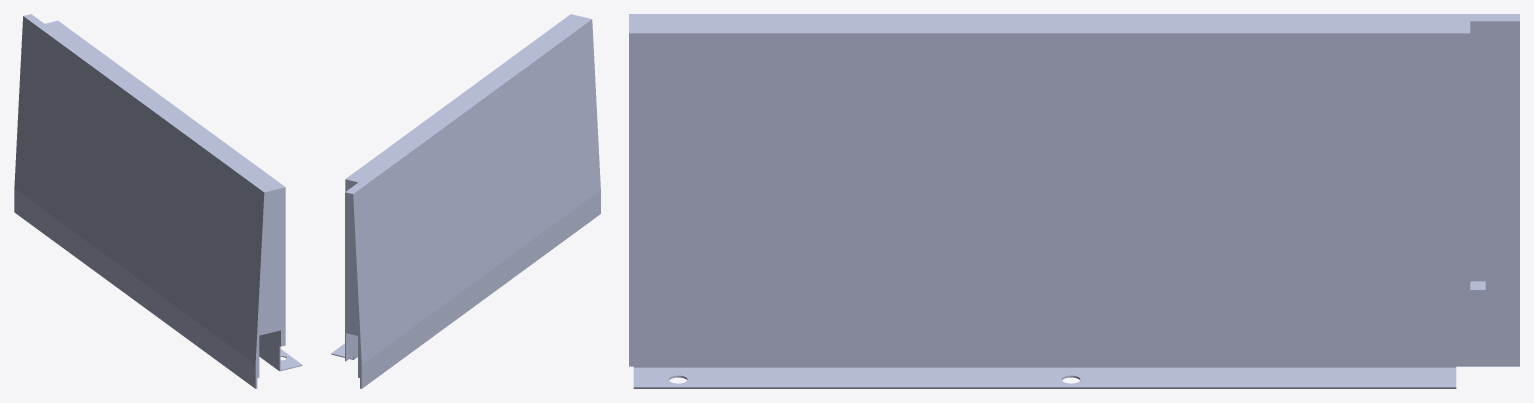
The model's file is mv-kava-K300-p.glb.
The picture shows the model from 3 angles, left to right: view 1: azimuth 30°, elevation 25°; view 2: azimuth 150°, elevation 25°; view 3: azimuth 270°, elevation 25°; orthographic projection. The views are drawn at different scales.
Visible parts, largest first — view 1: 44242689; view 2: 44242689; view 3: 44242689.
Boxes of the visible parts, x1=… form: 44242689: x1=14, y1=14, x2=302, y2=388; 44242689: x1=331, y1=14, x2=600, y2=388; 44242689: x1=629, y1=14, x2=1519, y2=388.
Bounding box in the file's own units: 0.0335 × 0.129 × 0.2902.
